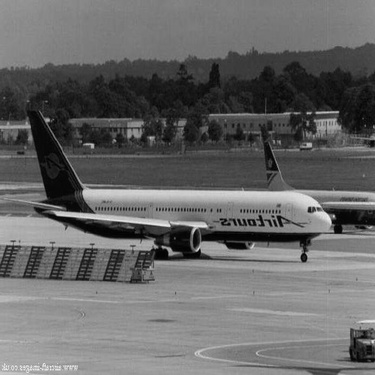airplane: (16, 94, 341, 275), (254, 118, 372, 242)
